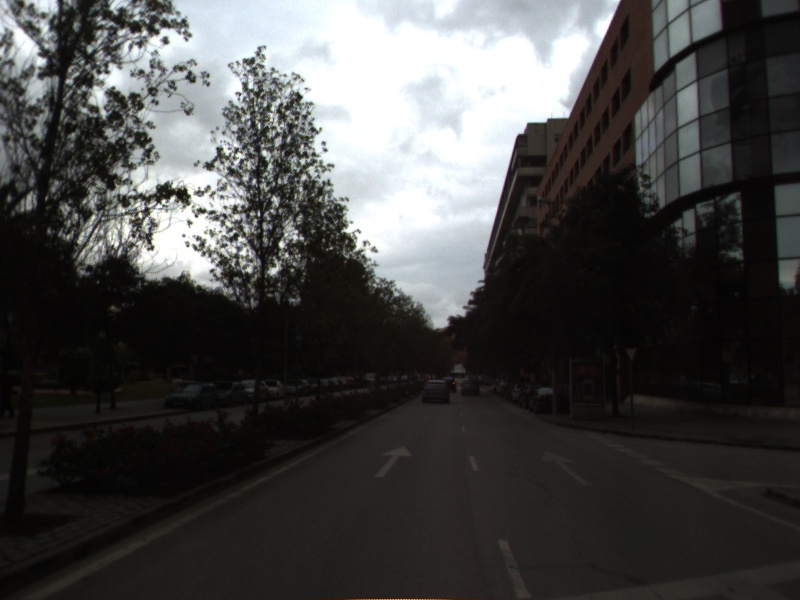STRAIGHT: (539, 448, 593, 488), (372, 443, 415, 480)
